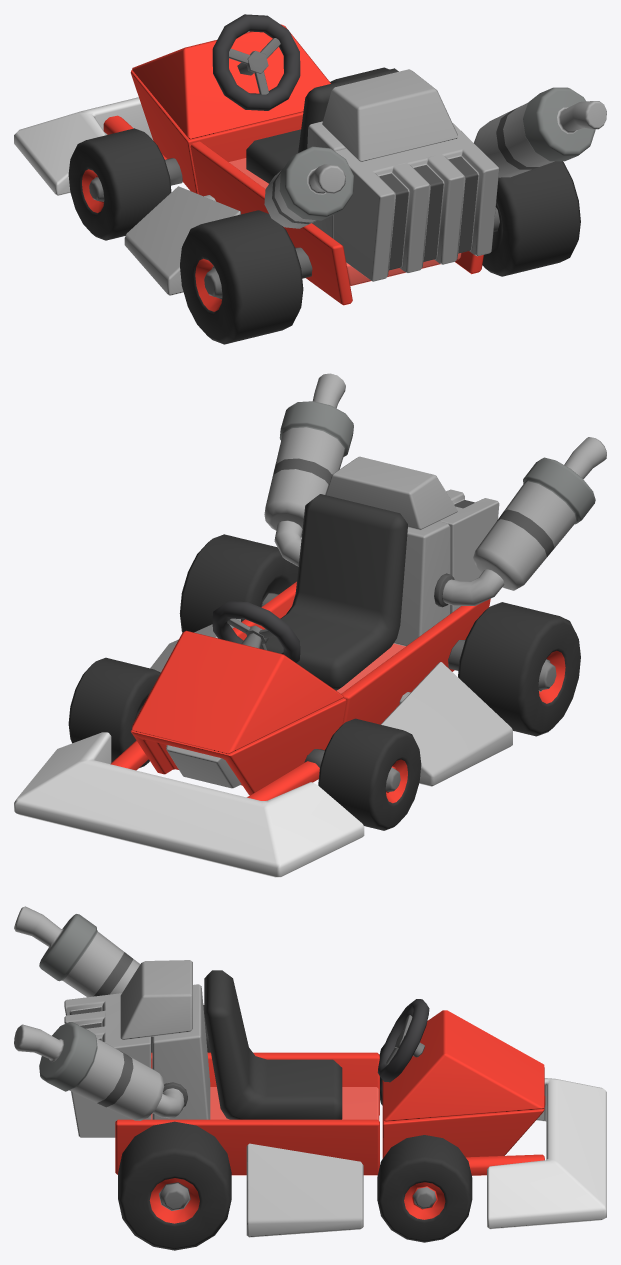
The model's file is Level_P_35.fbx.
3 views of the same model, one above another, from view 1: azimuth 30°, elevation 25°; view 2: azimuth 150°, elevation 25°; view 3: azimuth 270°, elevation 25° (orthographic). The views are drawn at different scales.
Visible parts, largest first — view 1: Kart_19, Kart_1, Kart_17, Kart_14, Kart_3, Kart_31, Kart_28, Kart_11, Kart_4, Kart_2, Kart_20, Kart_12 (+4 smaller); view 2: Kart_12, Kart_13, Kart_17, Kart_1, Kart_4, Kart_3, Kart_2, Kart_28, Kart_18, Kart_31, Kart_11, Kart_29 (+8 smaller); view 3: Kart_12, Kart_31, Kart_17, Kart_13, Kart_30, Kart_29, Kart_28, Kart_21, Kart_4, Kart_14, Kart_18, Kart_19 (+6 smaller).
Part boxes in pixels (box(x1,y1,x2,y2)): Kart_19: box(334, 123, 499, 281); Kart_1: box(180, 210, 303, 344); Kart_17: box(132, 24, 330, 139); Kart_14: box(322, 69, 457, 162); Kart_3: box(68, 128, 171, 240); Kart_31: box(482, 161, 580, 276); Kart_28: box(474, 87, 606, 177); Kart_11: box(190, 141, 352, 305); Kart_4: box(264, 146, 353, 228); Kart_2: box(124, 186, 240, 295); Kart_20: box(212, 14, 300, 110); Kart_12: box(14, 97, 153, 195); Kart_12: box(14, 732, 364, 877); Kart_13: box(265, 494, 407, 690); Kart_17: box(132, 630, 343, 754); Kart_1: box(458, 602, 580, 736); Kart_4: box(473, 437, 606, 590); Kart_3: box(318, 718, 421, 830); Kart_2: box(381, 662, 512, 786); Kart_28: box(264, 373, 353, 537); Kart_18: box(131, 698, 346, 795); Kart_31: box(179, 534, 298, 632); Kart_11: box(341, 599, 490, 724); Kart_29: box(68, 657, 160, 767); Kart_12: box(487, 1078, 606, 1229); Kart_31: box(118, 1121, 231, 1250); Kart_17: box(383, 1010, 544, 1121); Kart_13: box(204, 970, 342, 1119); Kart_30: box(246, 1143, 363, 1237); Kart_29: box(377, 1135, 472, 1242); Kart_28: box(14, 1022, 164, 1120); Kart_21: box(115, 1119, 379, 1175); Kart_4: box(14, 906, 140, 997); Kart_14: box(120, 960, 192, 1040); Kart_18: box(382, 1067, 544, 1158); Kart_19: box(64, 993, 151, 1137).
Bounding box in the file's own units: 416 × 260 × 670.
